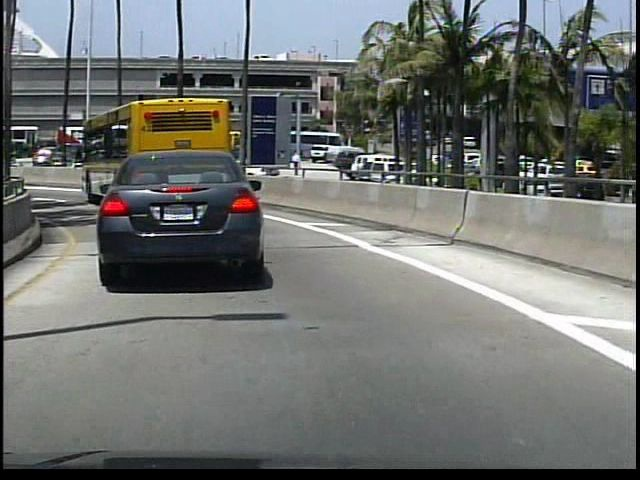person: (286, 149, 301, 177)
